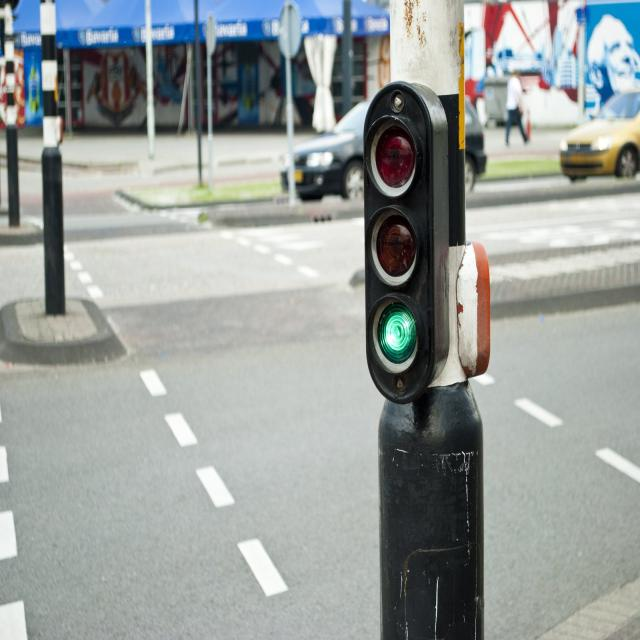green: (372, 300, 423, 361)
